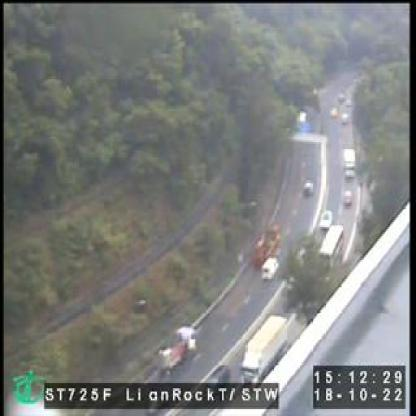Bus: (254, 223, 282, 272), (318, 225, 346, 272)
Car: (200, 364, 233, 398), (262, 257, 280, 281), (321, 209, 334, 228), (344, 191, 355, 208), (303, 181, 313, 198)
Truck: (242, 314, 291, 383), (156, 326, 197, 376), (344, 149, 355, 179)
